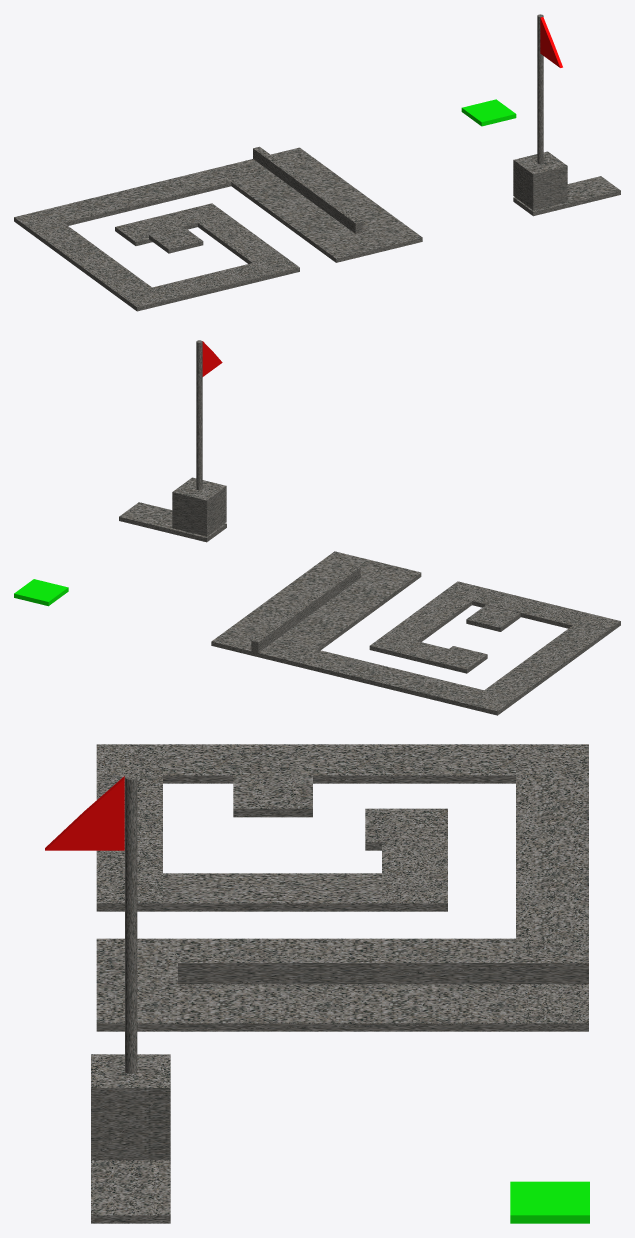
Rendered from level2.glb.
3 renders of one model, top to bottom at view 1: azimuth 30°, elevation 25°; view 2: azimuth 150°, elevation 25°; view 3: azimuth 270°, elevation 25°, orthographic. The views are drawn at different scales.
Parts seen in each view (by area): view 1: road, jump, flag; view 2: road, jump; view 3: road, jump, flag.
Boxes of the visible parts, x1,y1,x2,y2 form: road: (14,14,620,311); jump: (461,99,516,126); flag: (540,17,562,67); road: (119,340,620,715); jump: (14,579,68,606); road: (91,744,588,1223); jump: (510,1181,589,1223); flag: (45,776,124,850).
Bounding box in the file's own units: 27.98 × 10.47 × 13.68.
3 materials, 1 textured.
